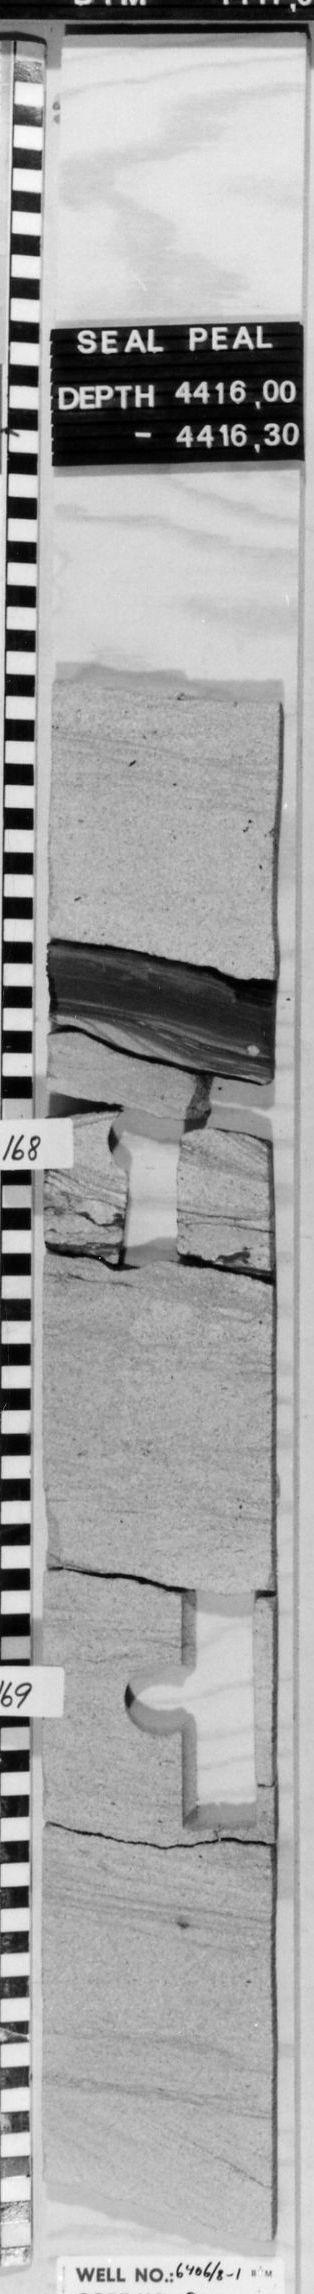hplug: (121, 1661, 187, 1742), (104, 1107, 187, 1172)
vplug: (175, 1586, 264, 1835), (104, 1172, 190, 1271)
